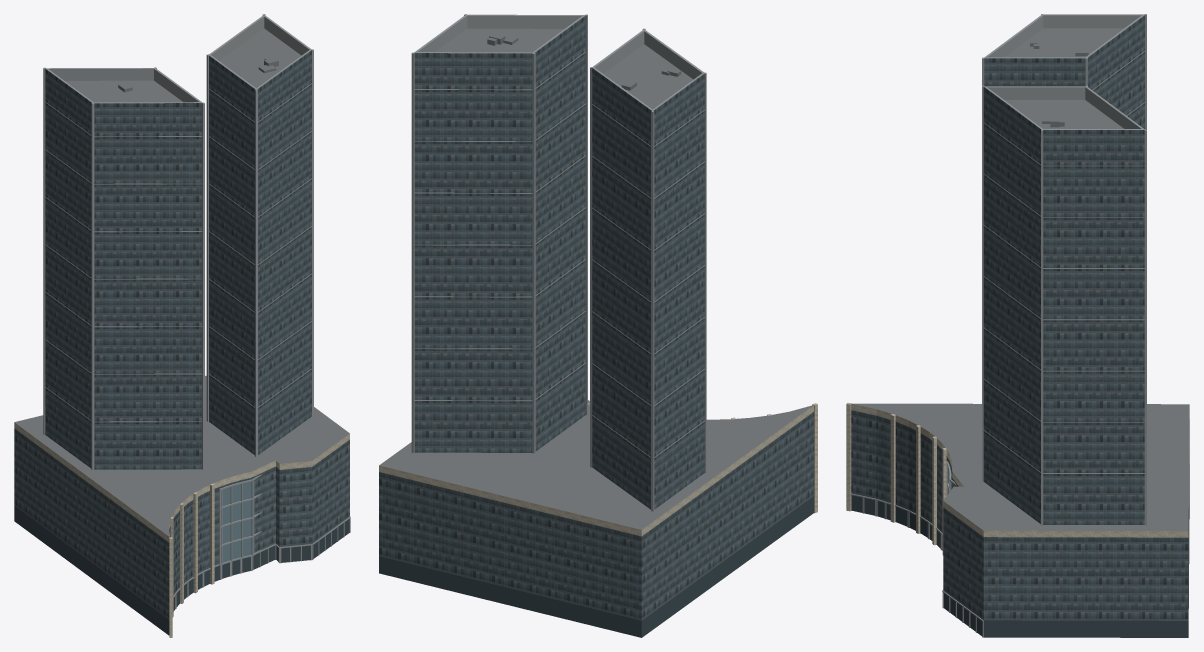
Rendered from deutsche_bank_center.glb.
3 views of the same model, side by side, from view 1: azimuth 30°, elevation 25°; view 2: azimuth 150°, elevation 25°; view 3: azimuth 270°, elevation 25° (orthographic). The views are drawn at different scales.
Parts seen in each view (by area): view 1: deutsche_bank_center; view 2: deutsche_bank_center; view 3: deutsche_bank_center.
Part boxes in pixels (x1,y1,x2,y2): deutsche_bank_center: (14, 14, 350, 637); deutsche_bank_center: (379, 14, 817, 637); deutsche_bank_center: (846, 14, 1189, 637).
Bounding box in the file's own units: 129 × 235 × 146.
3 materials, 3 textured.
